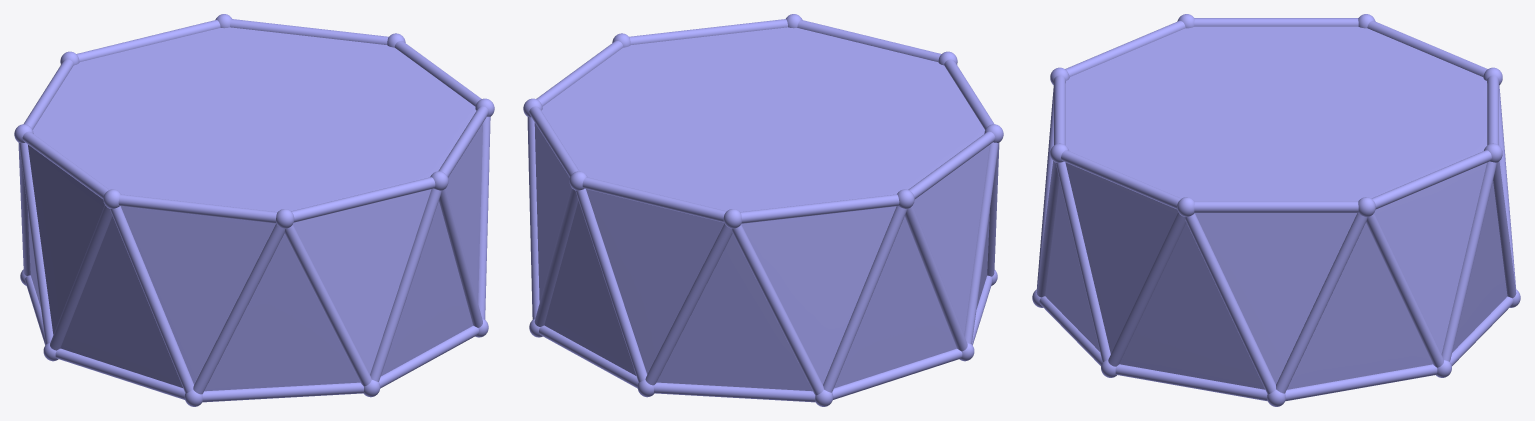
The model's file is AntiprismaOctagonal.gltf.
3 views of the same model, side by side, from view 1: azimuth 30°, elevation 25°; view 2: azimuth 150°, elevation 25°; view 3: azimuth 270°, elevation 25° (orthographic).
Parts seen in each view (by area): view 1: AntiprismaOctagonal; view 2: AntiprismaOctagonal; view 3: AntiprismaOctagonal.
Part boxes in pixels (bbox=[...]): AntiprismaOctagonal: bbox=[14, 14, 494, 406]; AntiprismaOctagonal: bbox=[523, 14, 1003, 406]; AntiprismaOctagonal: bbox=[1032, 14, 1520, 406].
Size of the model in its own units: 9.44 by 4.28 by 9.44.
